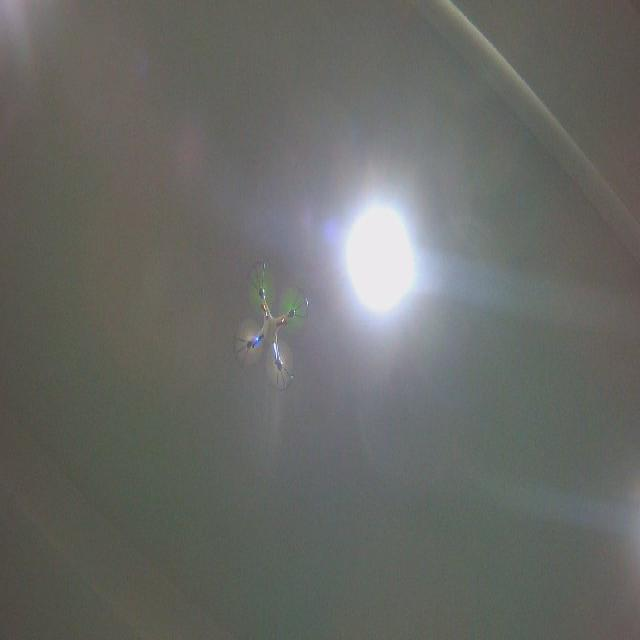drone: (225, 258, 312, 393)
